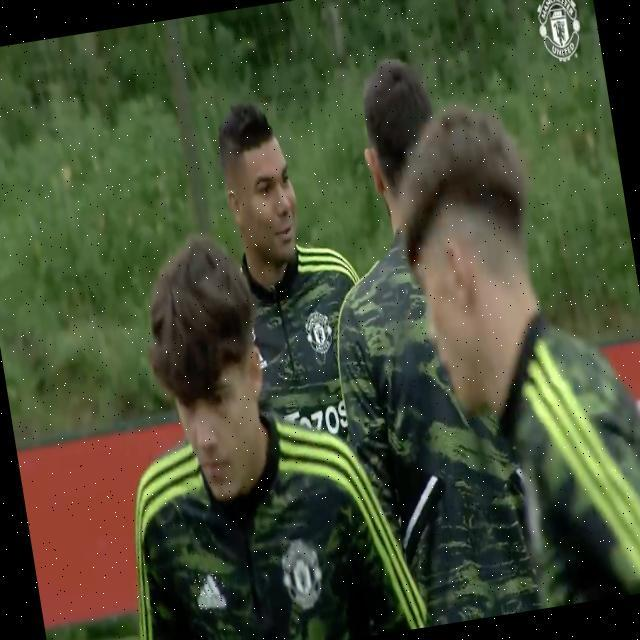Adidas: (194, 571, 229, 615)
